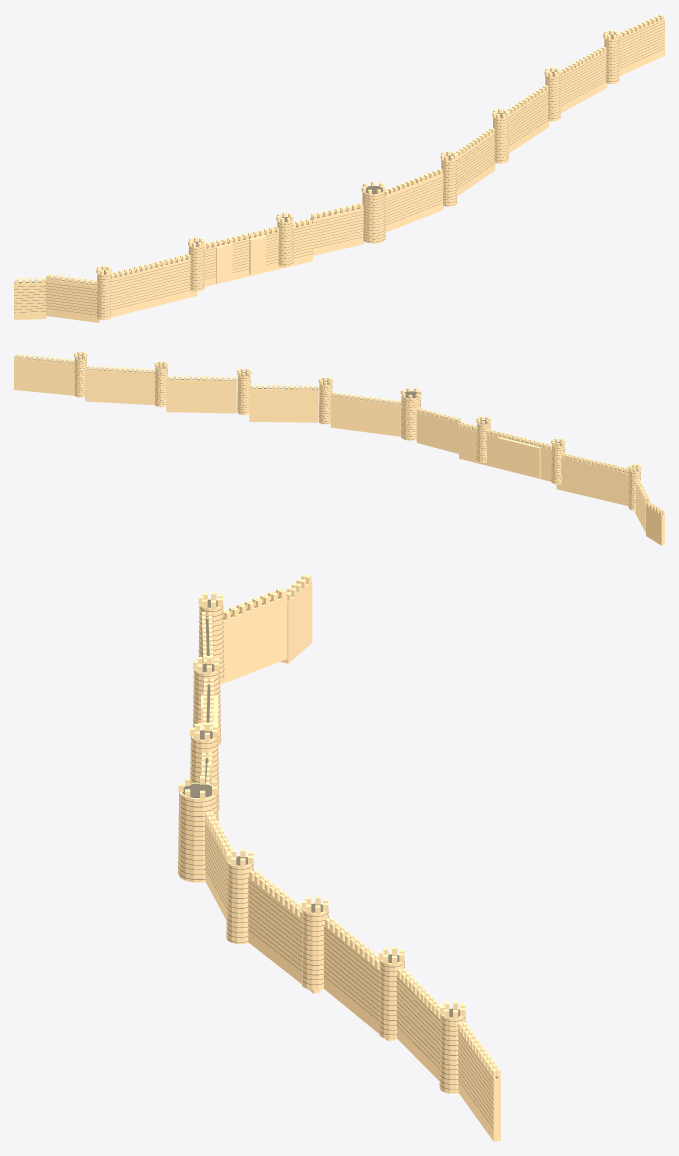
Rendered from bak_old_city_wall_stepped.glb.
The picture shows the model from 3 angles, top to bottom: view 1: azimuth 30°, elevation 25°; view 2: azimuth 150°, elevation 25°; view 3: azimuth 270°, elevation 25°; orthographic projection. The views are drawn at different scales.
Parts seen in each view (by area): view 1: baku-old-city-wall; view 2: baku-old-city-wall; view 3: baku-old-city-wall.
Boxes of the visible parts, bbox=[...] form: baku-old-city-wall: bbox=[14, 14, 664, 322]; baku-old-city-wall: bbox=[14, 351, 664, 545]; baku-old-city-wall: bbox=[178, 574, 500, 1141].
Size of the model in its own units: 236 by 31.48 by 54.75.
